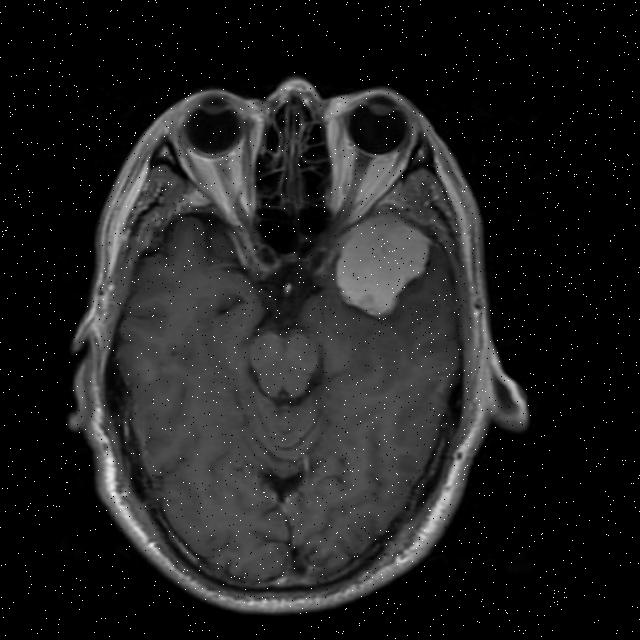Meningioma: (327, 208, 436, 326)
